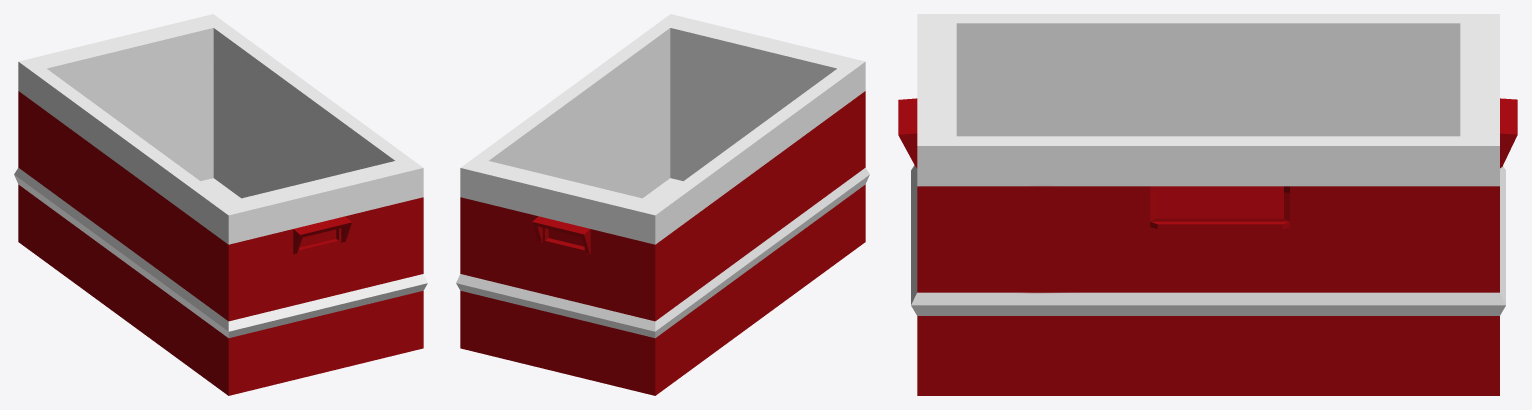
The model's file is Nevera.fbx.
3 renders of one model, left to right at view 1: azimuth 30°, elevation 25°; view 2: azimuth 150°, elevation 25°; view 3: azimuth 270°, elevation 25°, orthographic. The views are drawn at different scales.
Parts seen in each view (by area): view 1: Cube; view 2: Cube; view 3: Cube.
Boxes of the visible parts, x1,y1,x2,y2 form: Cube: (14,14,427,395); Cube: (456,14,869,395); Cube: (898,14,1517,395).
Bounding box in the file's own units: 232 × 199 × 447.
